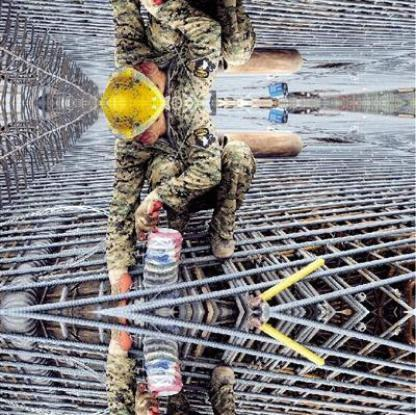helmet: (92, 102, 174, 140)
